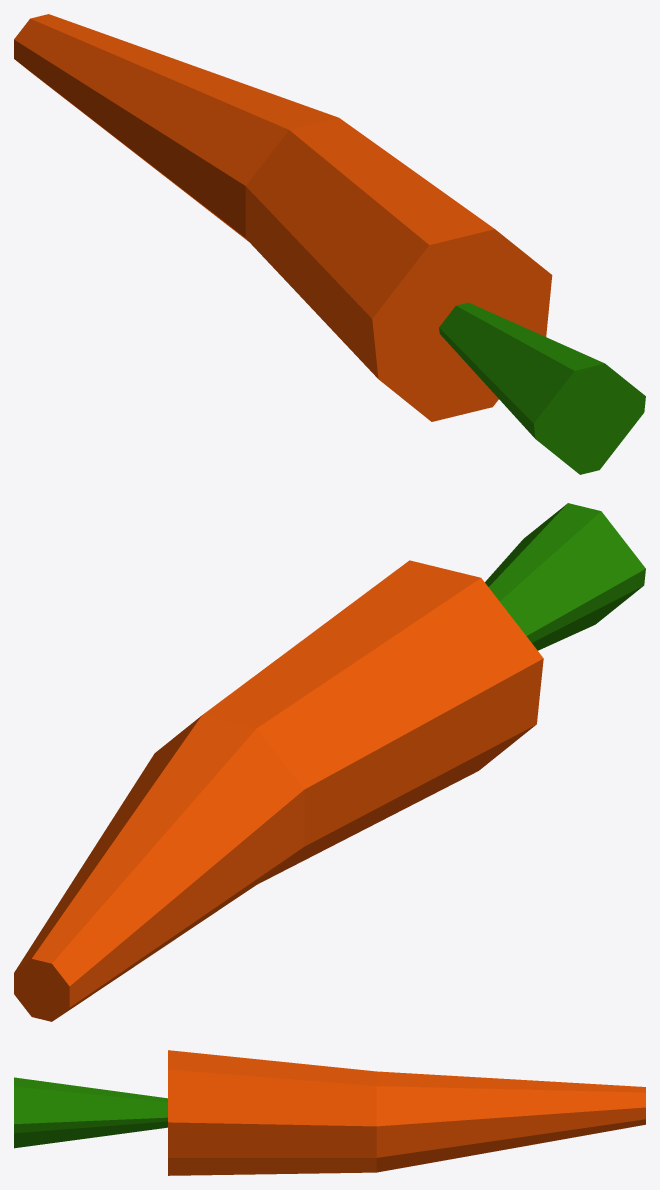
The model's file is zanahoria.fbx.
3 views of the same model, one above another, from view 1: azimuth 30°, elevation 25°; view 2: azimuth 150°, elevation 25°; view 3: azimuth 270°, elevation 25° (orthographic). The views are drawn at different scales.
Visible parts, largest first — view 1: Zanahoria; view 2: Zanahoria; view 3: Zanahoria.
Boxes of the visible parts, box(x1,y1,x2,y2) form: Zanahoria: box(14, 14, 645, 474); Zanahoria: box(14, 503, 645, 1021); Zanahoria: box(14, 1050, 645, 1175).
Bounding box in the file's own units: 2.81 × 2.59 × 13.88.
